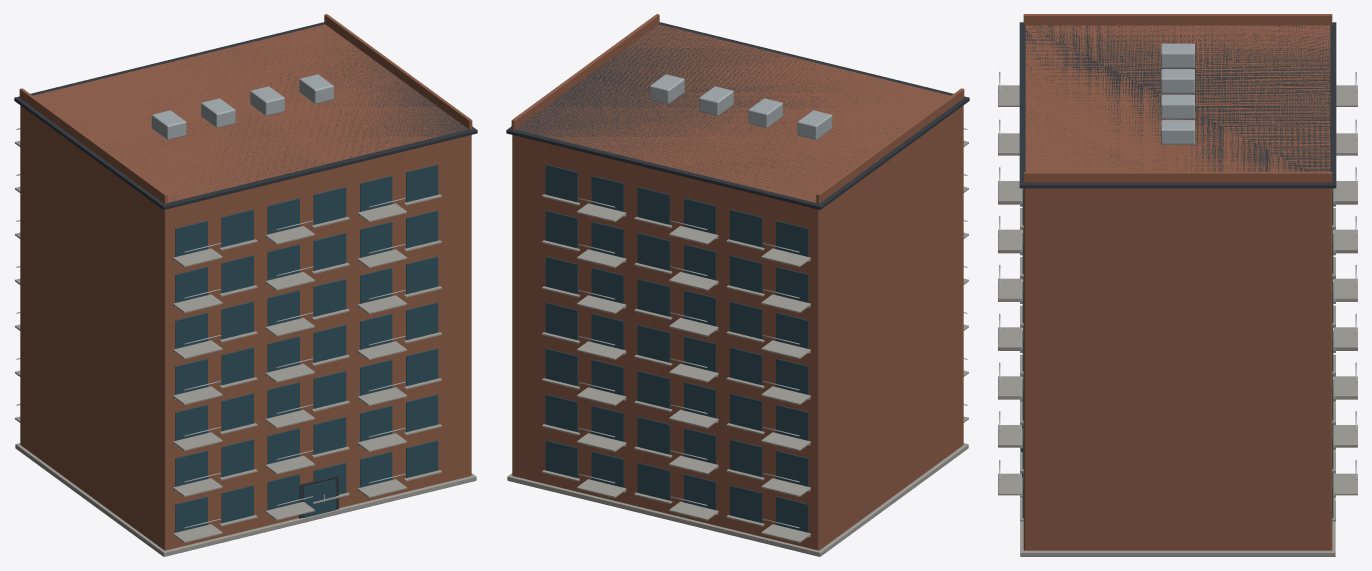
Rendered from SM_Apartment.fbx.
The picture shows the model from 3 angles, left to right: view 1: azimuth 30°, elevation 25°; view 2: azimuth 150°, elevation 25°; view 3: azimuth 270°, elevation 25°; orthographic projection. The views are drawn at different scales.
Visible parts, largest first — view 1: SM_Apartment; view 2: SM_Apartment; view 3: SM_Apartment.
Boxes of the visible parts, x1=… form: SM_Apartment: x1=14, y1=14, x2=477, y2=556; SM_Apartment: x1=506, y1=14, x2=969, y2=556; SM_Apartment: x1=998, y1=14, x2=1357, y2=556.
Bounding box in the file's own units: 2250 × 2100 × 2500.
